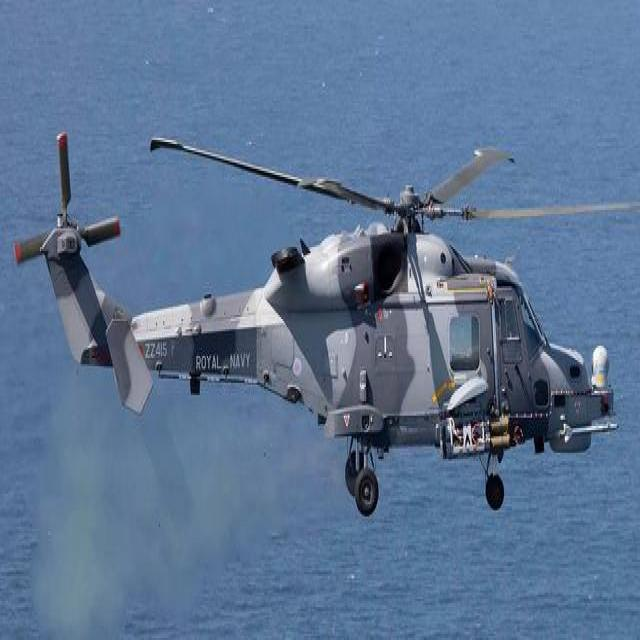MIL_HELO: (1, 91, 640, 533)
